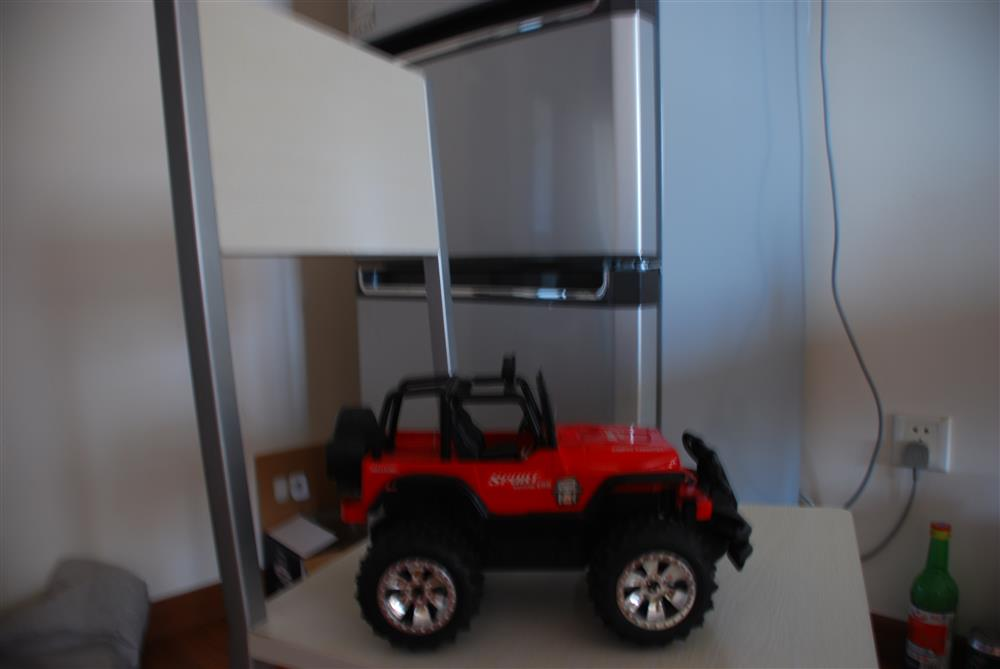toy_tractor: (332, 349, 754, 653)
